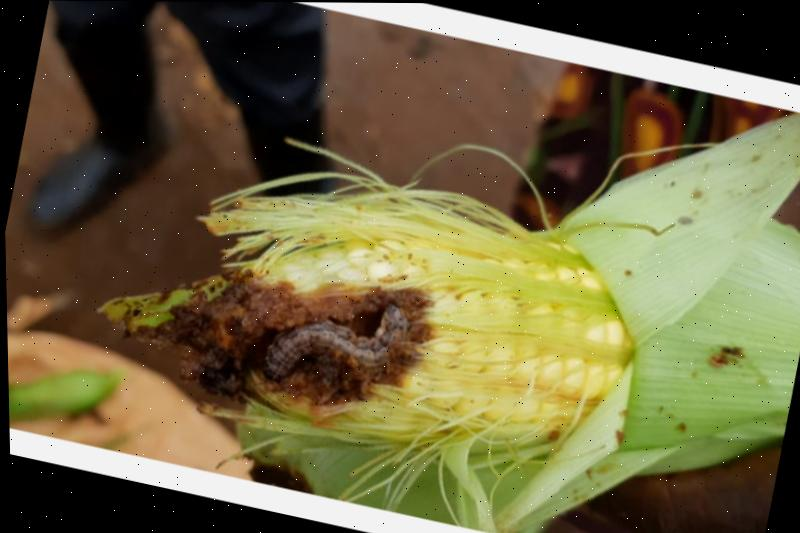fall-armyworm: (261, 304, 405, 381)
